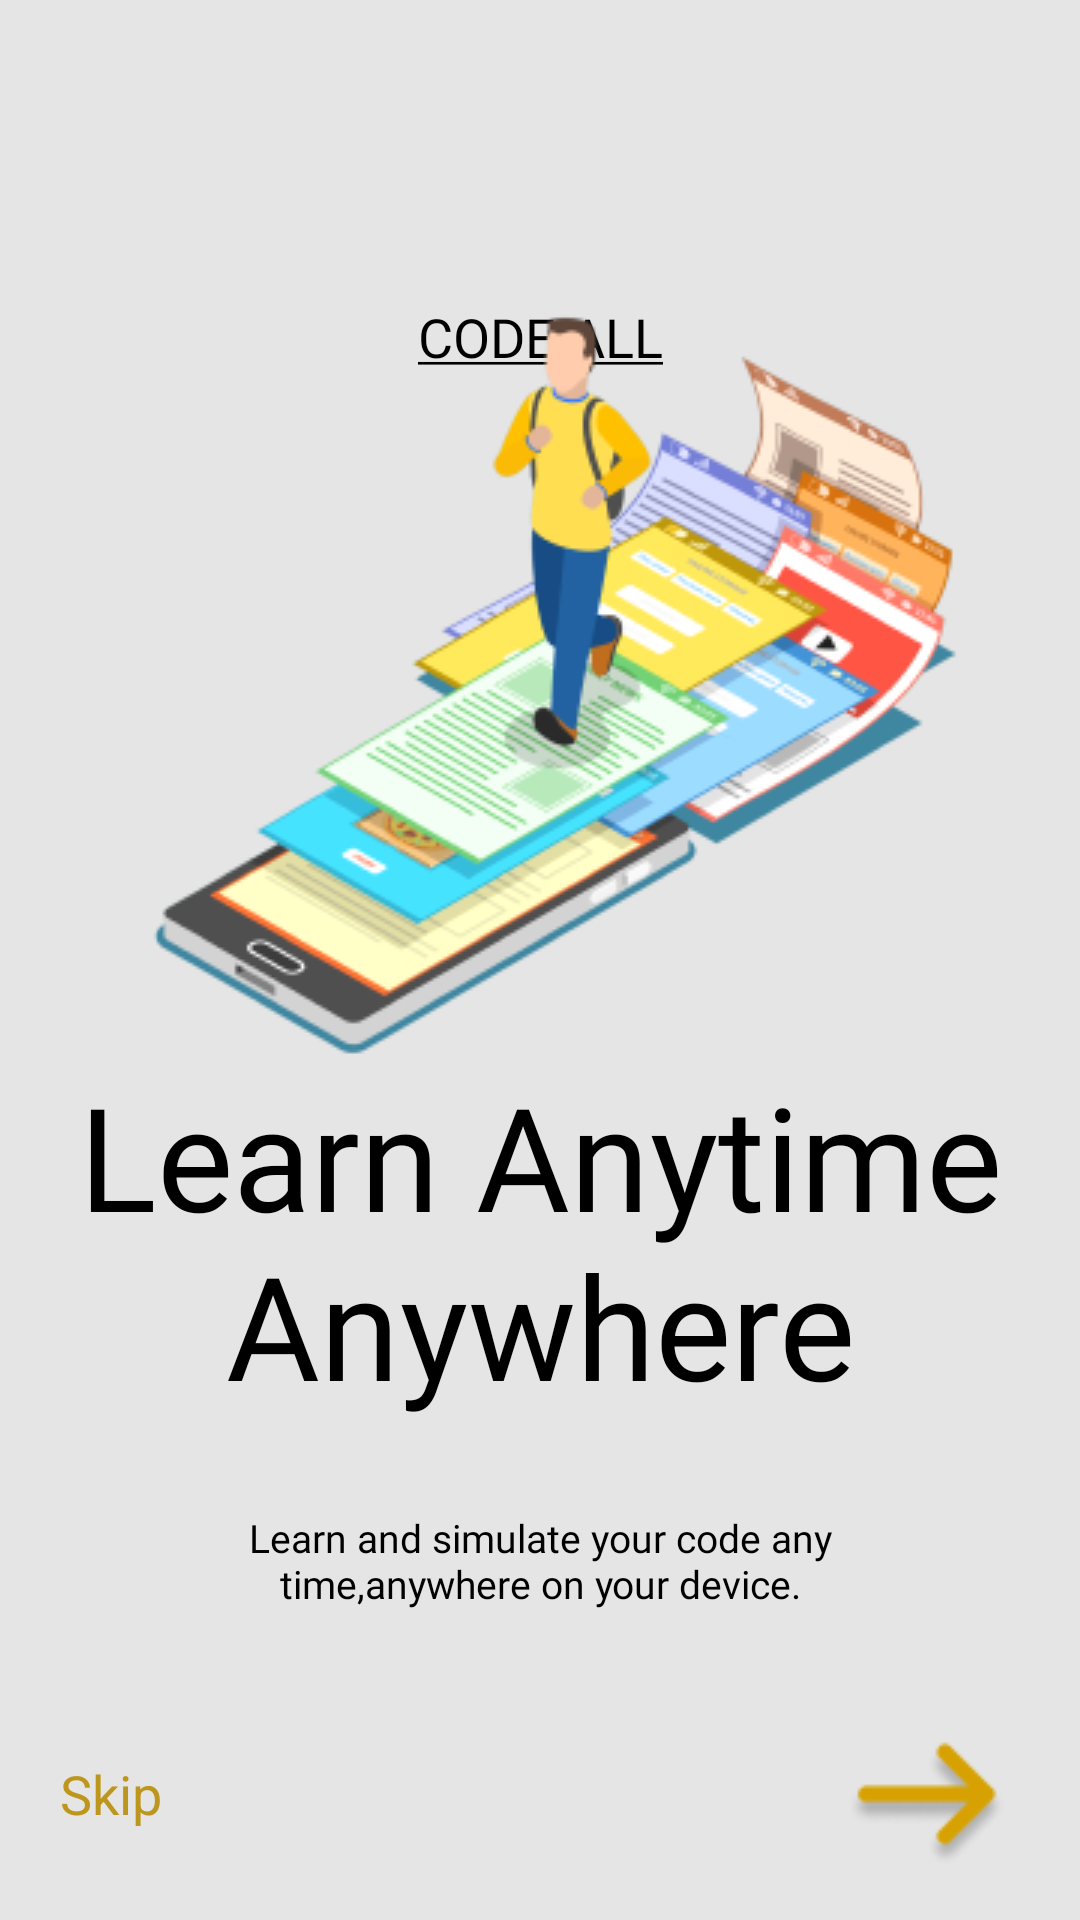

Where to tap for icons on this 1080px×1920px app screen, as [x,y]:
Next: [927,1798]
